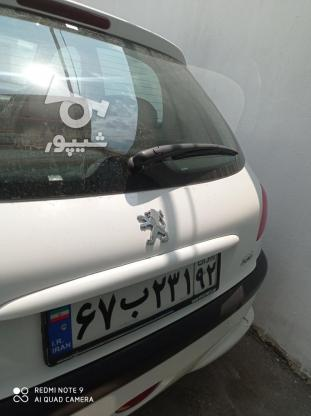car: (44, 250, 220, 367)
